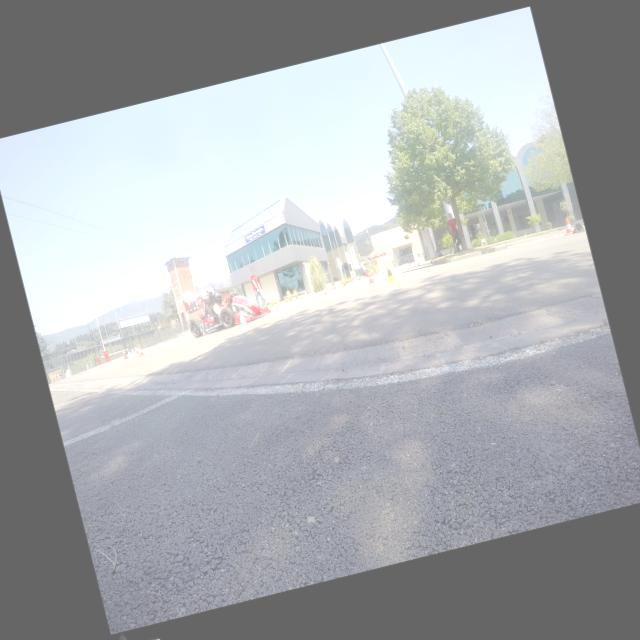blue_cone: (236, 308, 248, 326), (310, 289, 316, 297), (278, 301, 282, 306)
large_orange_cone: (366, 269, 376, 283)
orange_cone: (560, 218, 573, 235), (135, 344, 145, 356), (272, 300, 279, 310), (322, 286, 328, 294), (134, 346, 138, 354), (371, 273, 375, 280), (308, 292, 312, 297), (286, 297, 289, 302), (332, 285, 335, 289), (396, 266, 399, 270), (344, 283, 346, 287), (334, 284, 336, 288), (398, 266, 400, 270)
unknown_cone: (570, 220, 584, 233), (122, 348, 128, 359), (416, 261, 421, 266), (362, 276, 366, 280)
yellow_cone: (382, 263, 397, 282), (264, 302, 268, 308)
